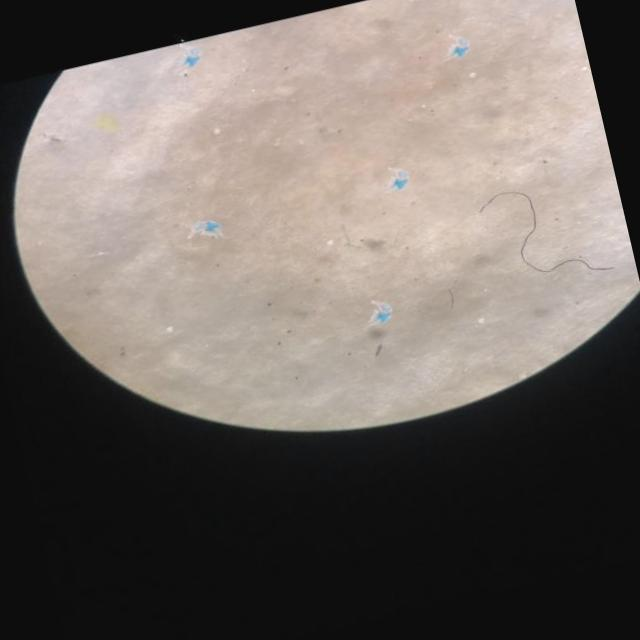fiber: (481, 192, 614, 273)
film: (191, 220, 218, 237), (370, 302, 391, 323), (388, 168, 409, 186), (451, 36, 467, 53), (182, 48, 198, 63)
fragment: (94, 115, 116, 131)
pellet: (165, 326, 173, 333), (477, 317, 484, 324), (327, 239, 333, 246), (469, 72, 475, 78), (214, 129, 219, 134)
